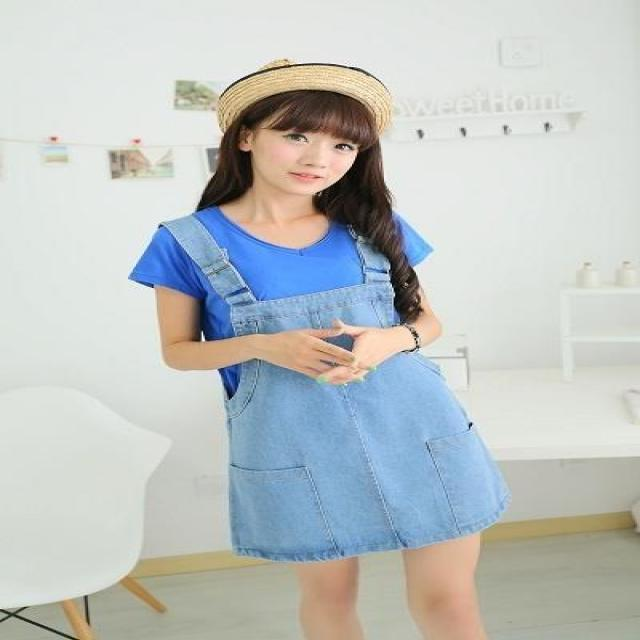short sleeve top: (131, 193, 440, 407)
sling dress: (159, 205, 513, 563)
